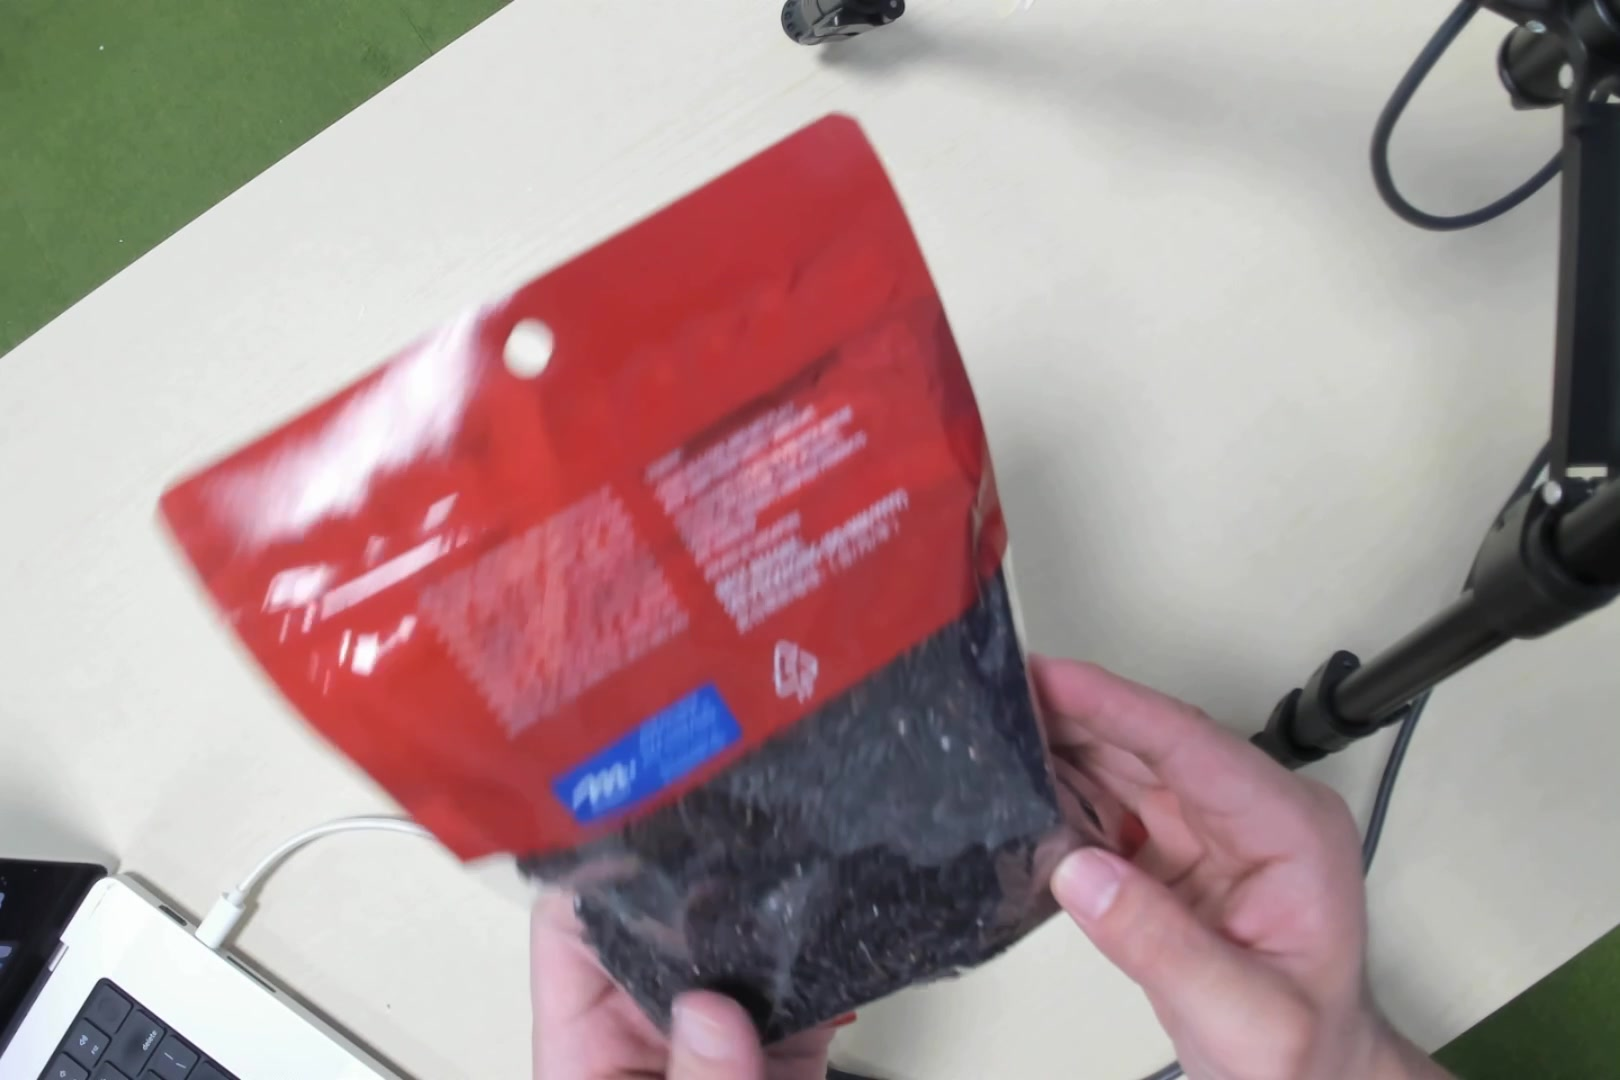OtherDriedFood_100-199g_NonHalal_NonHealthy: (409, 270, 1047, 1019)
